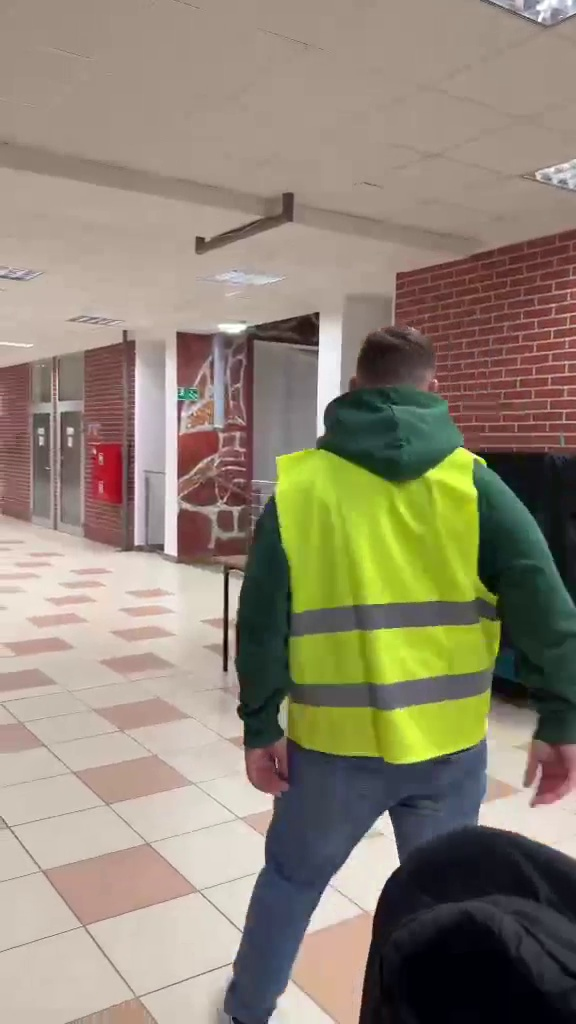vest: (230, 310, 575, 1007)
